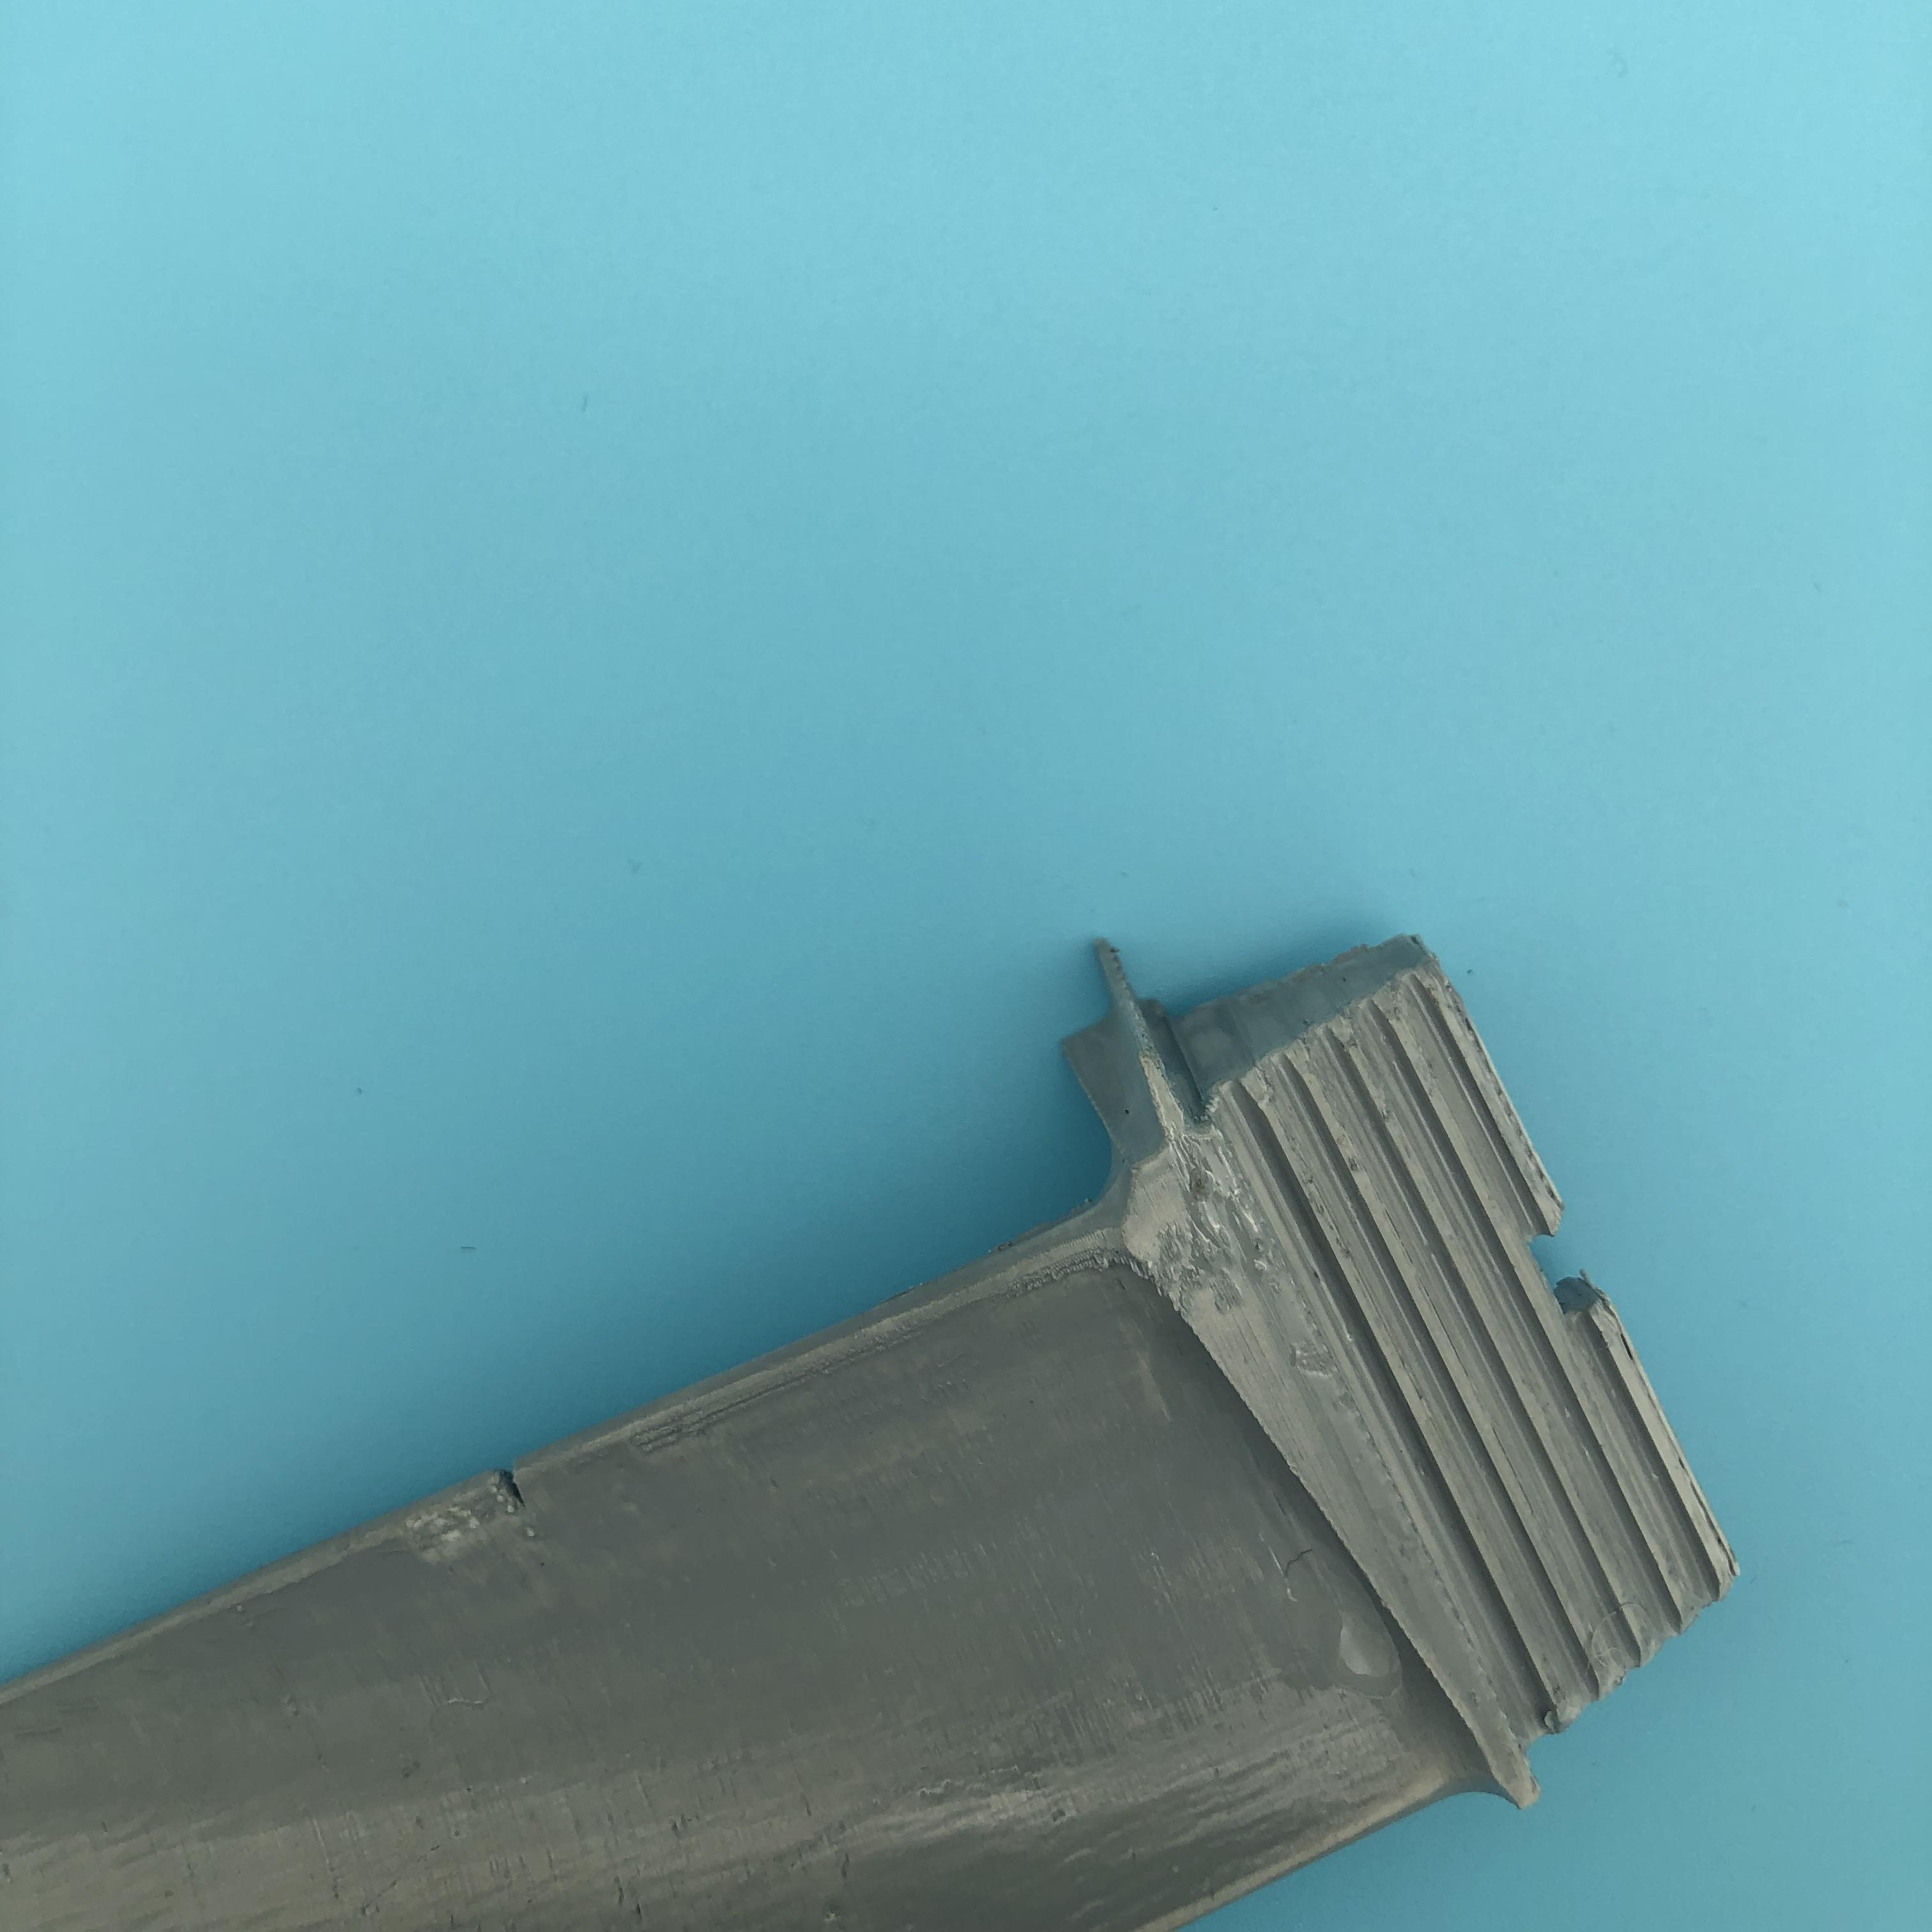groove: (490, 1477, 541, 1513)
